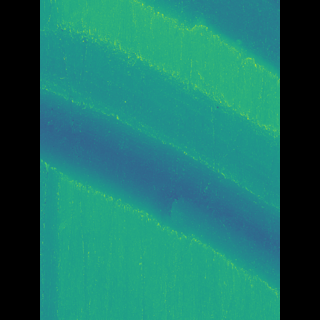Loch: (69, 77, 250, 296), (142, 0, 249, 75)
